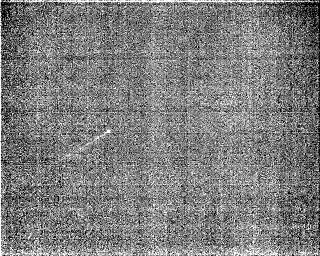AIRPLANE: (48, 129, 112, 167)
